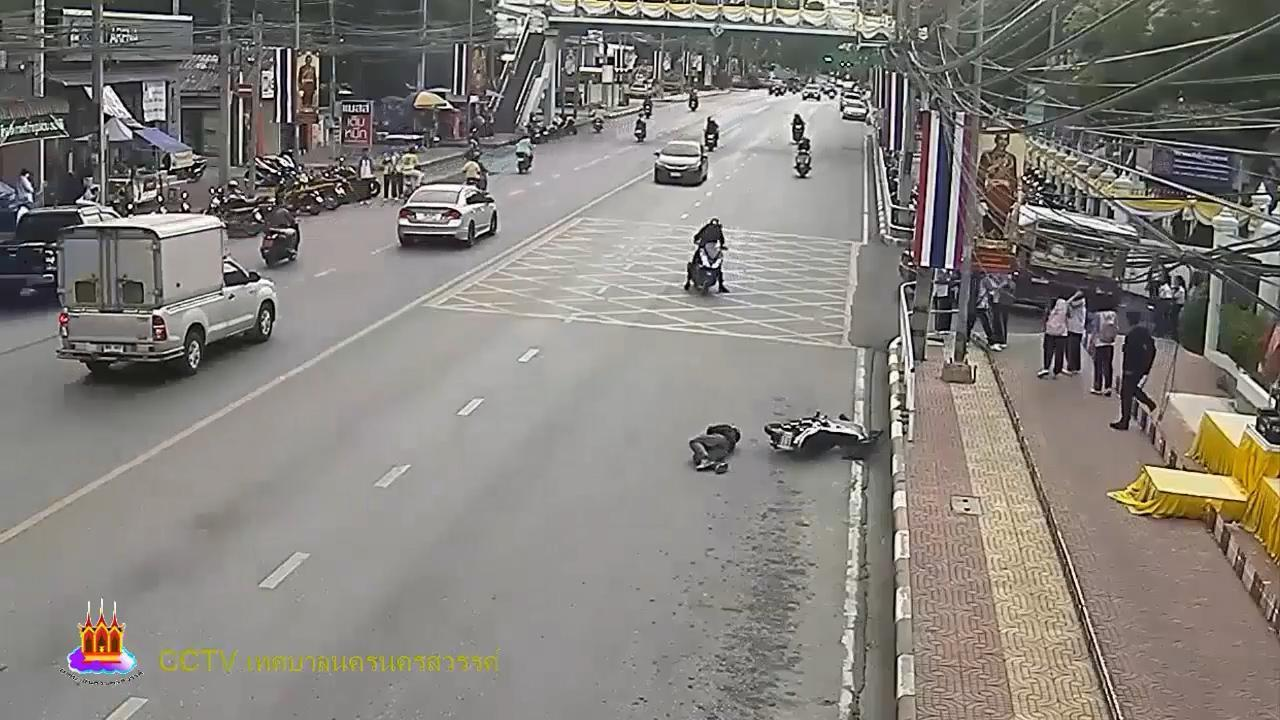accident: (689, 416, 745, 476)
